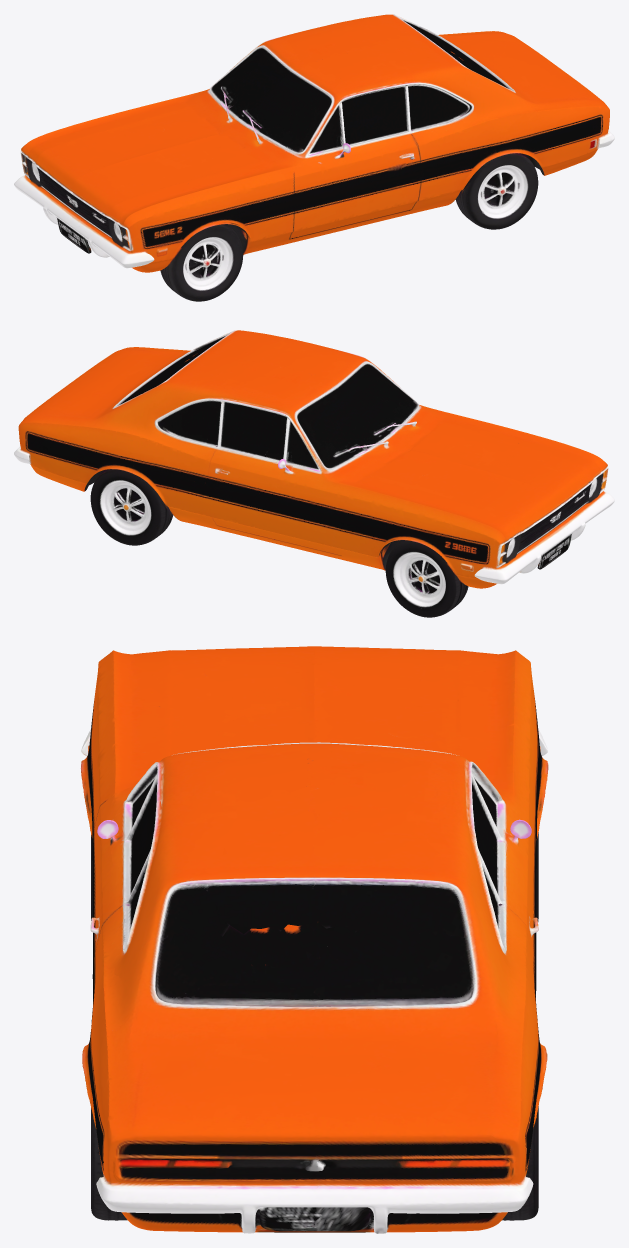
The model's file is Chevy v3.glb.
3 views of the same model, one above another, from view 1: azimuth 30°, elevation 25°; view 2: azimuth 150°, elevation 25°; view 3: azimuth 270°, elevation 25° (orthographic). The views are drawn at different scales.
Visible parts, largest first — view 1: mesh_node; view 2: mesh_node; view 3: mesh_node.
Part boxes in pixels (box(x1,y1,x2,y2)): mesh_node: box(14, 14, 614, 301); mesh_node: box(14, 330, 614, 617); mesh_node: box(81, 646, 548, 1233).
Bounding box in the file's own units: 1.9 × 0.5908 × 0.7687.
1 material, 1 textured.
